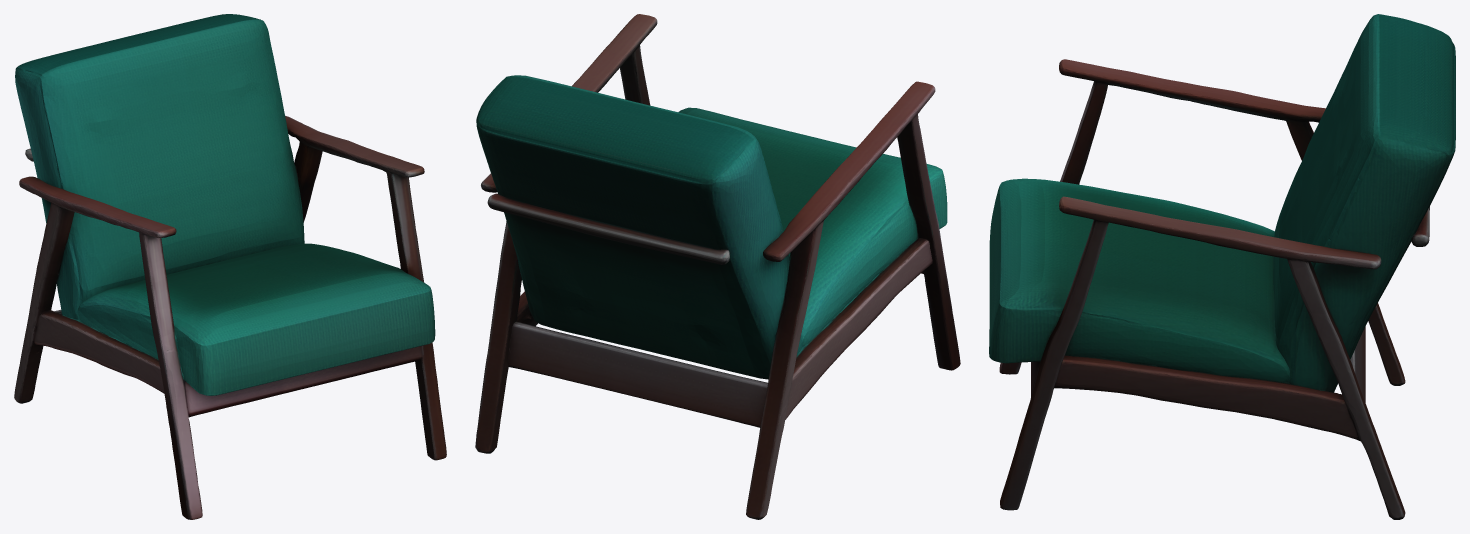
Rendered from armchairs_16239_image_1.glb.
3 views of the same model, side by side, from view 1: azimuth 30°, elevation 25°; view 2: azimuth 150°, elevation 25°; view 3: azimuth 270°, elevation 25° (orthographic). The views are drawn at different scales.
Parts seen in each view (by area): view 1: world; view 2: world; view 3: world.
Boxes of the visible parts, <box> form: world: <box>14,14,446,519</box>; world: <box>475,14,960,519</box>; world: <box>989,14,1455,519</box>.
Bounding box in the file's own units: 0.7532 × 0.8987 × 0.9968.
Materials: 1 (1 with a texture image).
